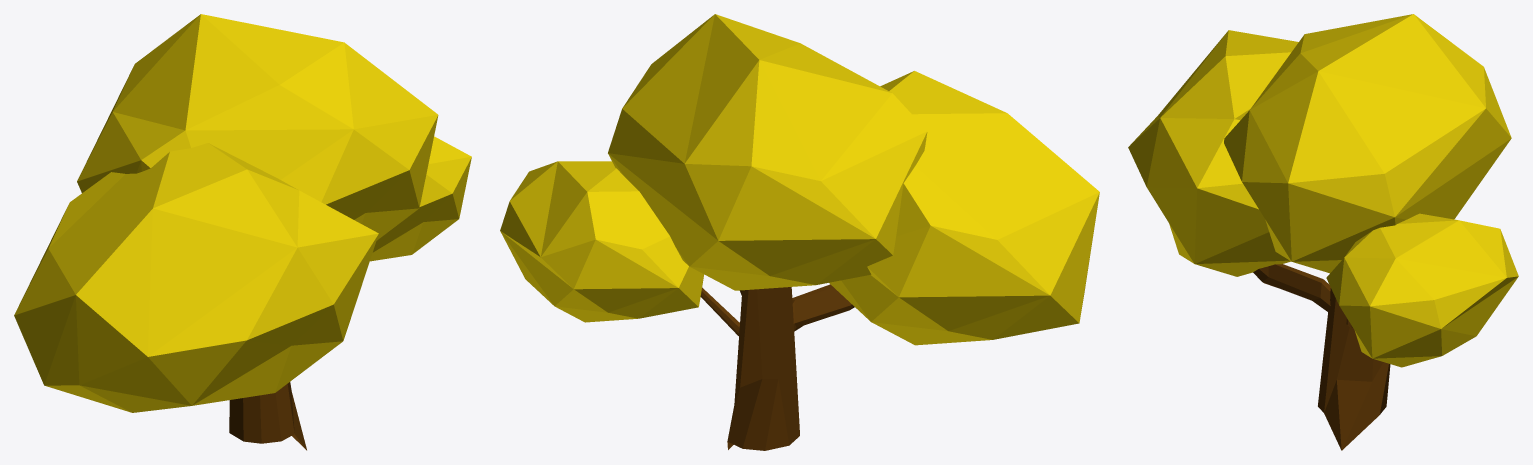
File: Bush#12.fbx
3 renders of one model, left to right at view 1: azimuth 30°, elevation 25°; view 2: azimuth 150°, elevation 25°; view 3: azimuth 270°, elevation 25°, orthographic. The views are drawn at different scales.
Parts seen in each view (by area): view 1: Bush#12; view 2: Bush#12; view 3: Bush#12.
Boxes of the visible parts, x1,y1,x2,y2 form: Bush#12: (14, 14, 471, 450); Bush#12: (500, 14, 1099, 450); Bush#12: (1128, 14, 1518, 450).
Size of the model in its own units: 206 by 173 by 151.
